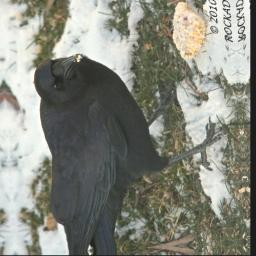Crow: (32, 46, 229, 253)
